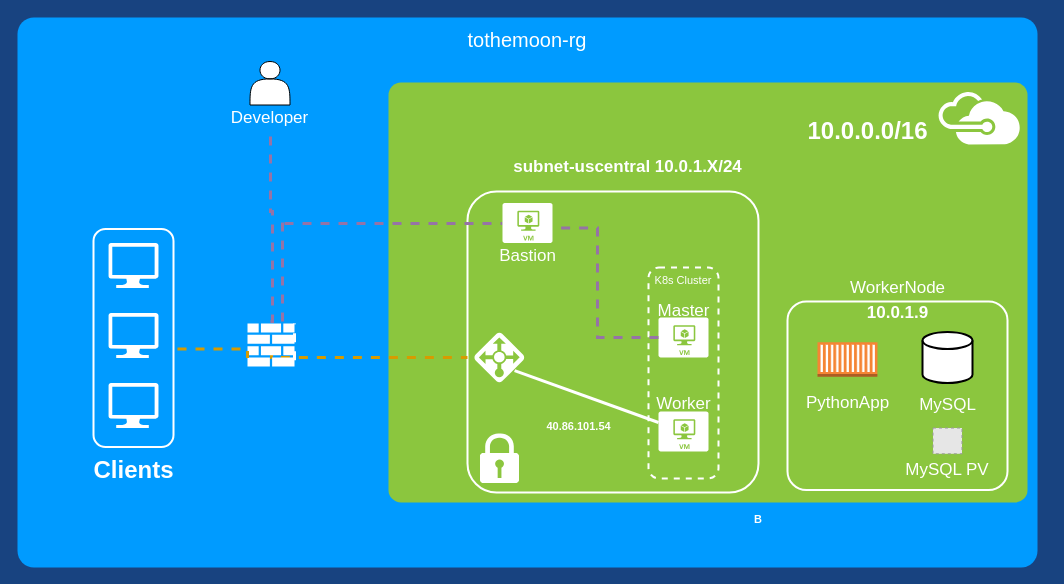
Image size: 1064x584. Some labels were removed from this diagram. Grey dashed boxes stand in for pictures. The shapes that lost their labels are listed below. From the top down, each one's centre as x and y in pixels, then its label:
At pixel 978 117: "Azure Vnet".
At pixel 270 344: "NSG".
